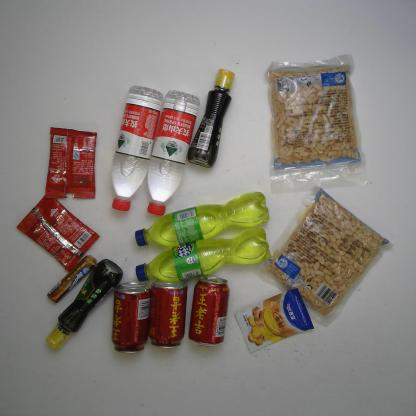Candy: (46, 254, 97, 303)
Dried Fruit: (251, 182, 395, 327), (264, 52, 369, 192)
Drink: (133, 190, 271, 249), (135, 226, 272, 284), (146, 89, 201, 218), (109, 84, 164, 212), (187, 275, 231, 348), (110, 280, 152, 354), (147, 279, 188, 349)
Instant Drink: (15, 194, 100, 272), (44, 126, 98, 199)
Seasoner: (45, 257, 124, 351), (234, 287, 316, 354), (187, 68, 236, 169)
